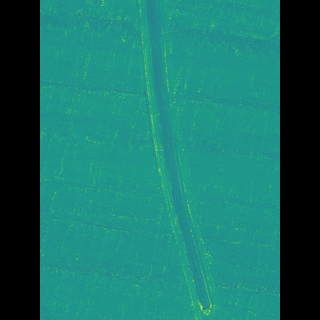Loch: (140, 0, 208, 320)
